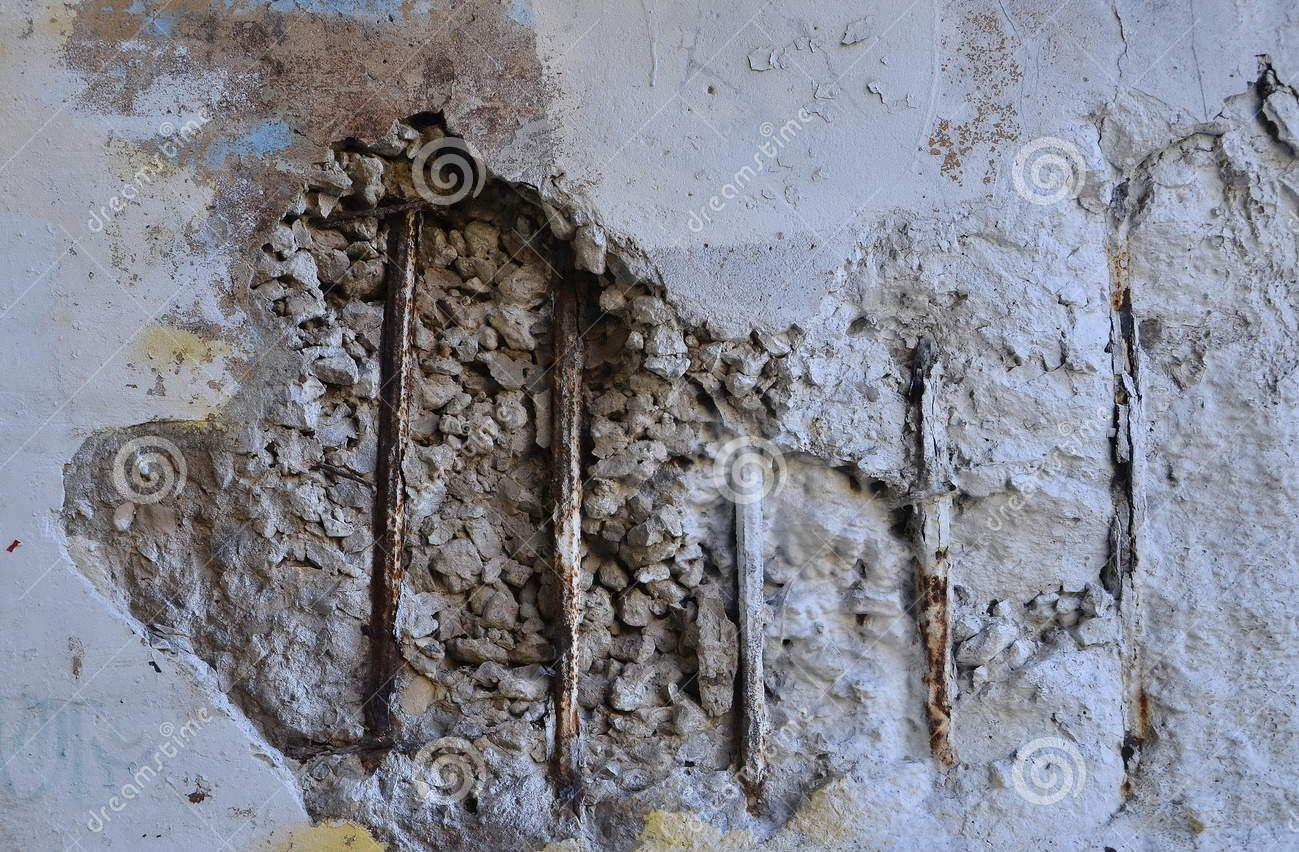Corrosion: (5, 539, 21, 554), (188, 791, 205, 804)
Exposed reinforcement: (380, 207, 420, 691), (553, 271, 588, 784), (734, 446, 768, 790), (914, 494, 957, 766), (309, 186, 489, 225)
Spalling: (55, 50, 1299, 852), (147, 659, 161, 673)
